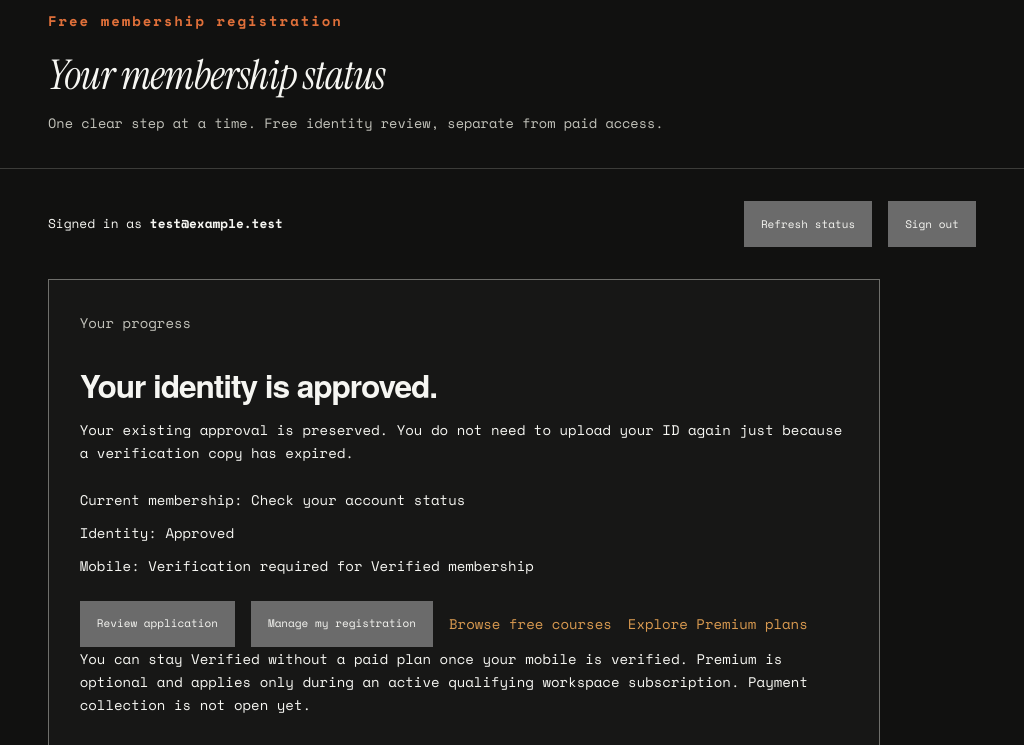
Test: preserves approved identity after document expiry without asking for a new submission
Check: the heading "Your identity is approved." is shown, box [80,362,437,408]
Check: the text "You do not need to upload your ID again" is shown, box [80,419,842,463]
Click the button "Manage my registration" at [342, 624], box [251,601,433,647]
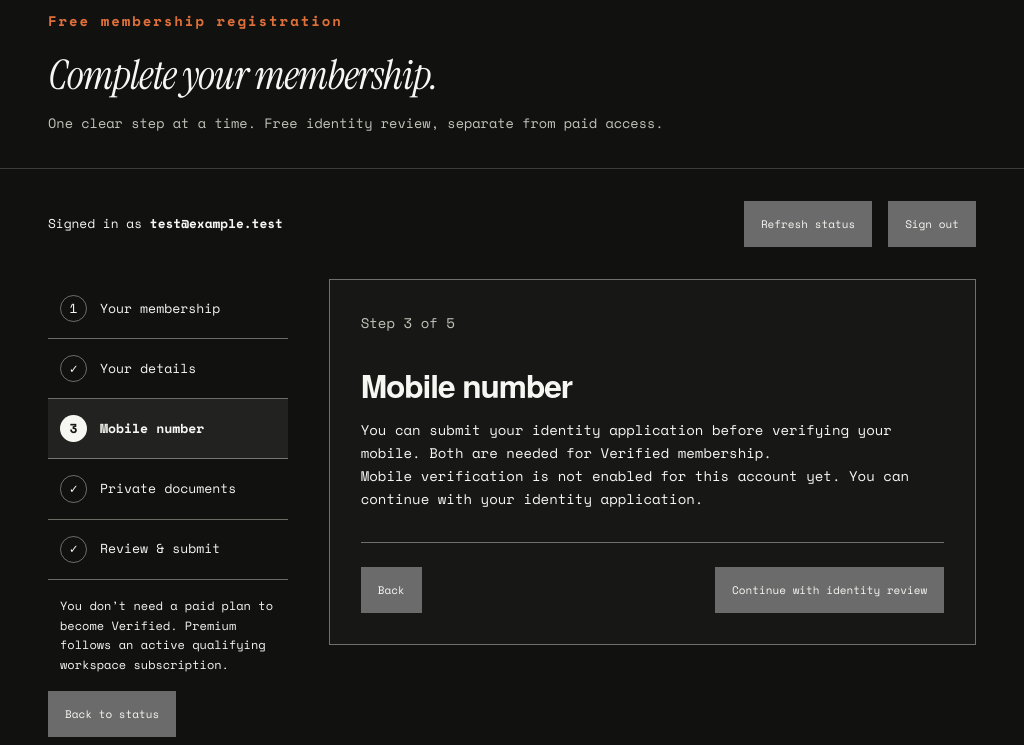
Click the button "✓ Private documents" at [168, 490], box [48,459,288,520]
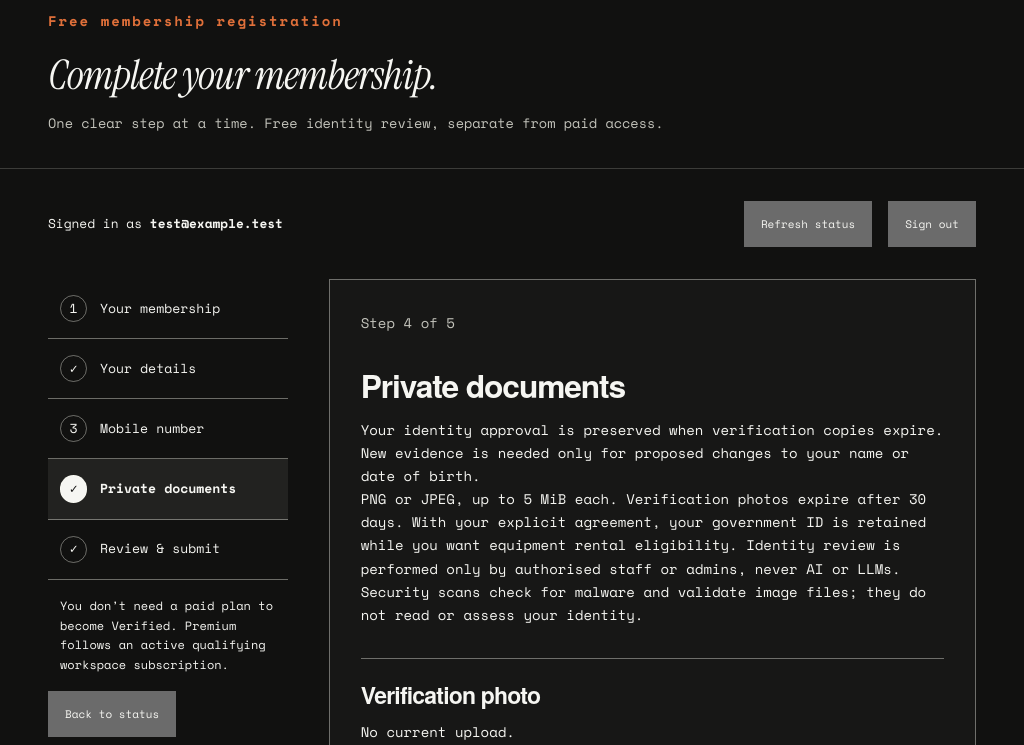
Click the button "✓ Review & submit" at [168, 550], box [48,520,288,580]
(page scrolled)
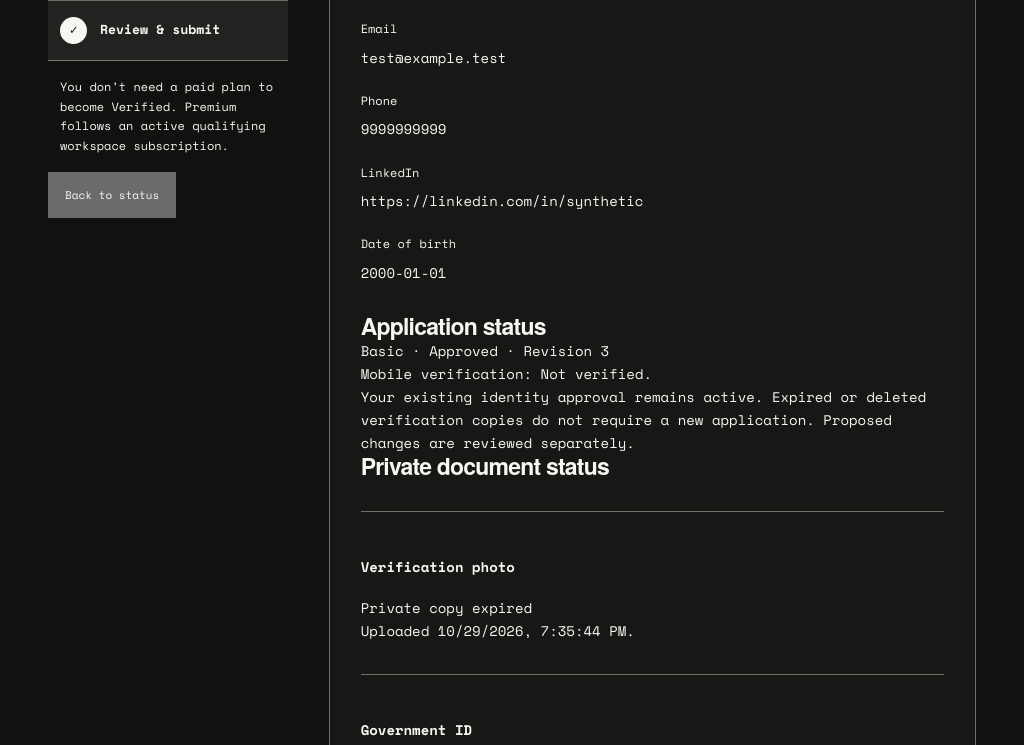
Check: the text "Your existing identity approval remains active" is shown, box [361,386,926,453]
